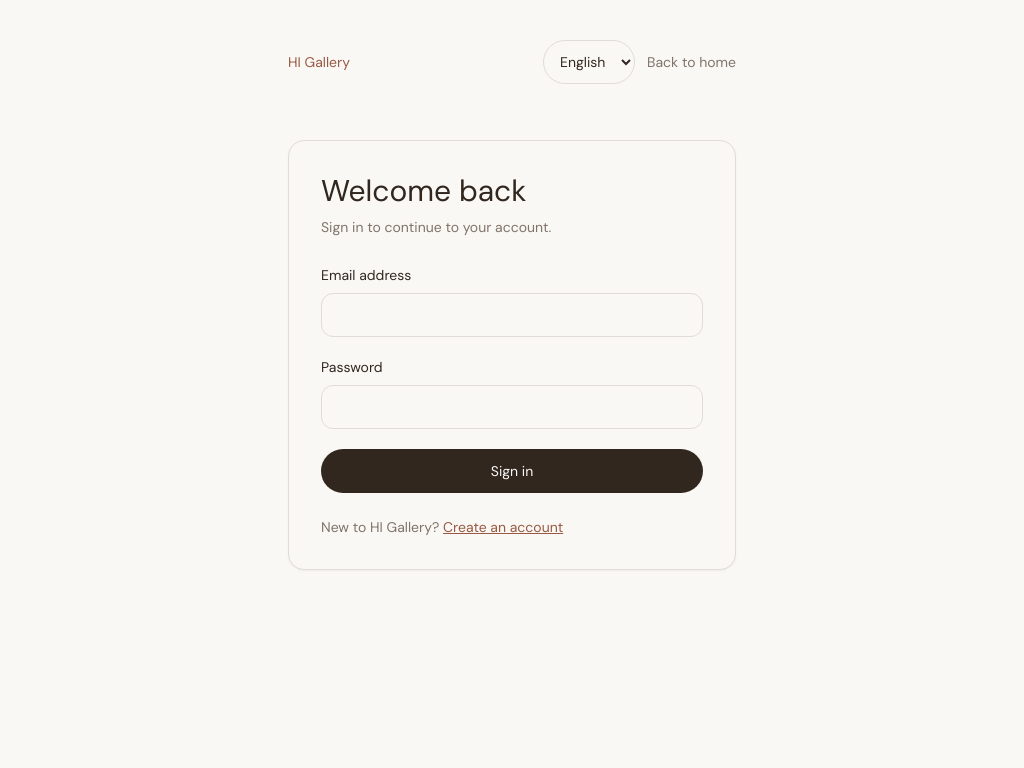
it: frontend authentication › validates and submits login credentials, stores only in-memory user state, and supports localized RTL
In the field labelled "Email address": (512, 315) x1=321 y1=293 x2=703 y2=337, type "maker@example.com"
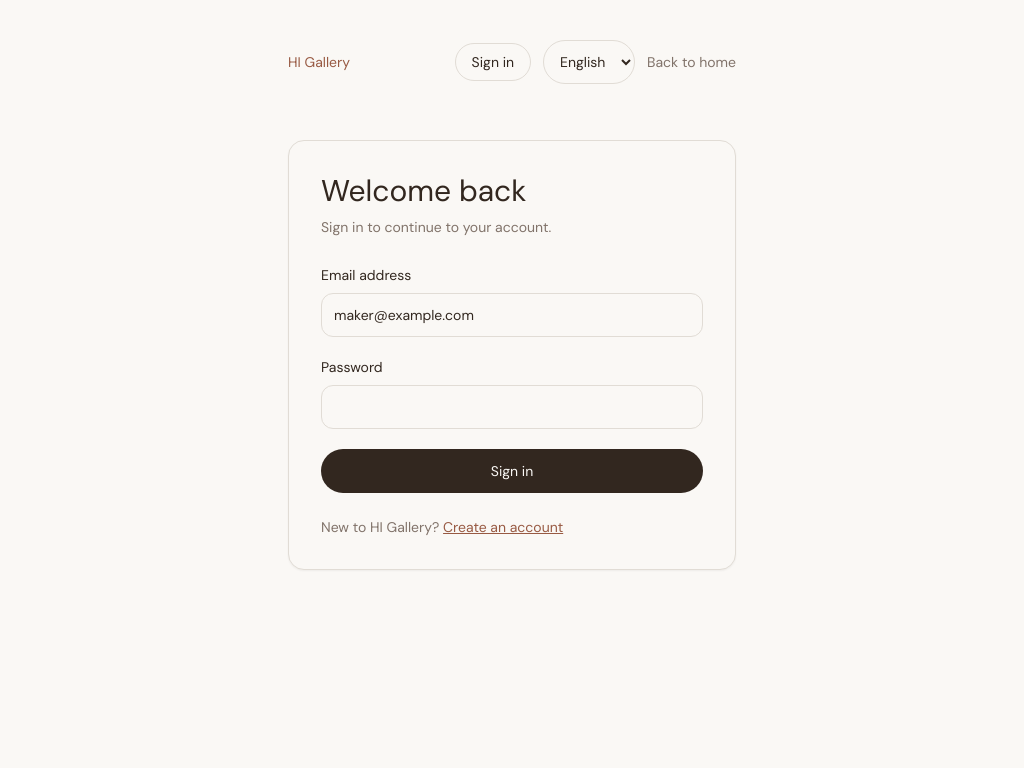
In the password field labelled "Password": (512, 407) x1=321 y1=385 x2=703 y2=429, type "correct-horse-12"
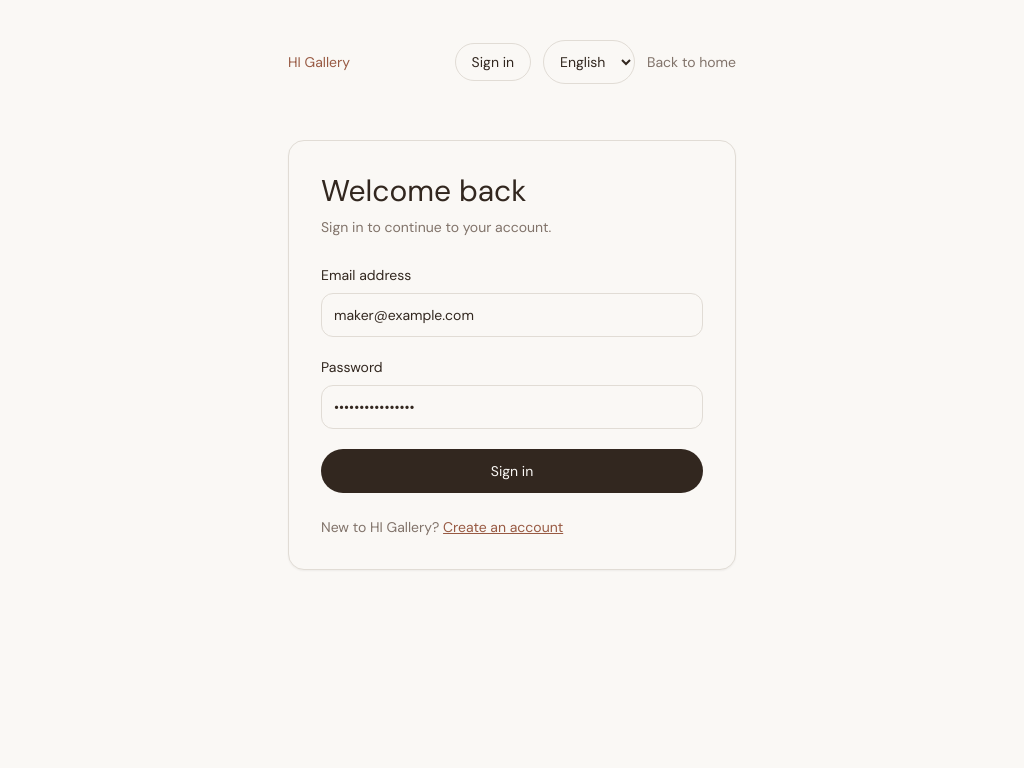
Select "فارسی" in the dropdown named "Select language": (589, 62) x1=543 y1=40 x2=635 y2=84
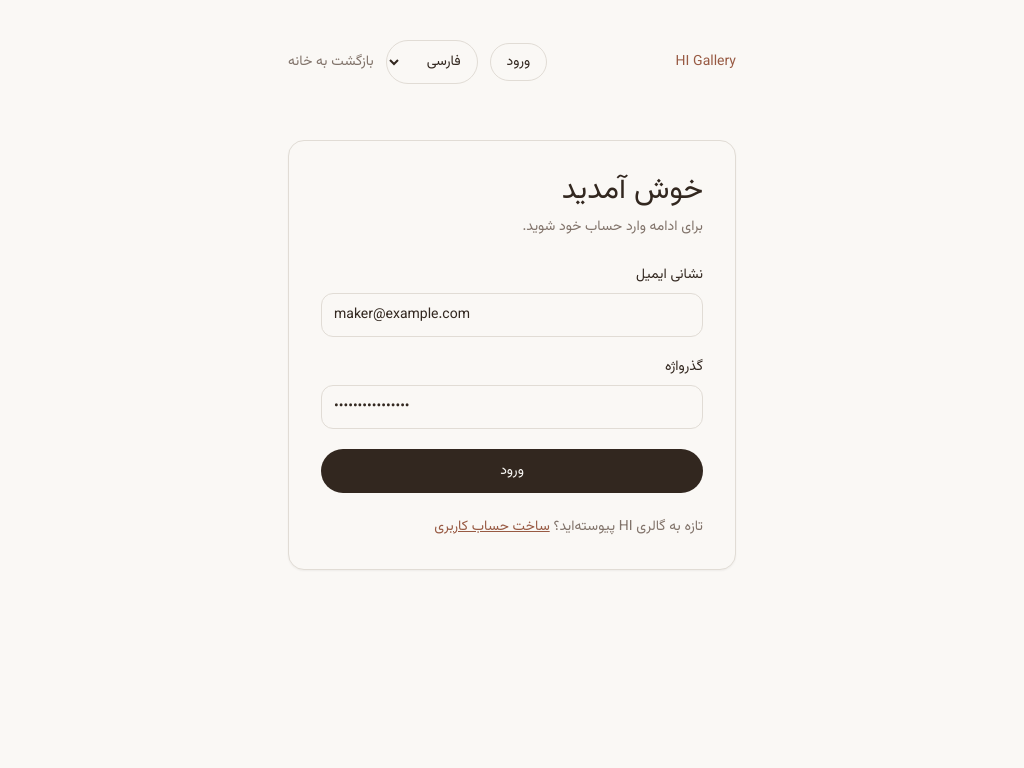
Click the button "ورود": (512, 471) x1=321 y1=449 x2=703 y2=493
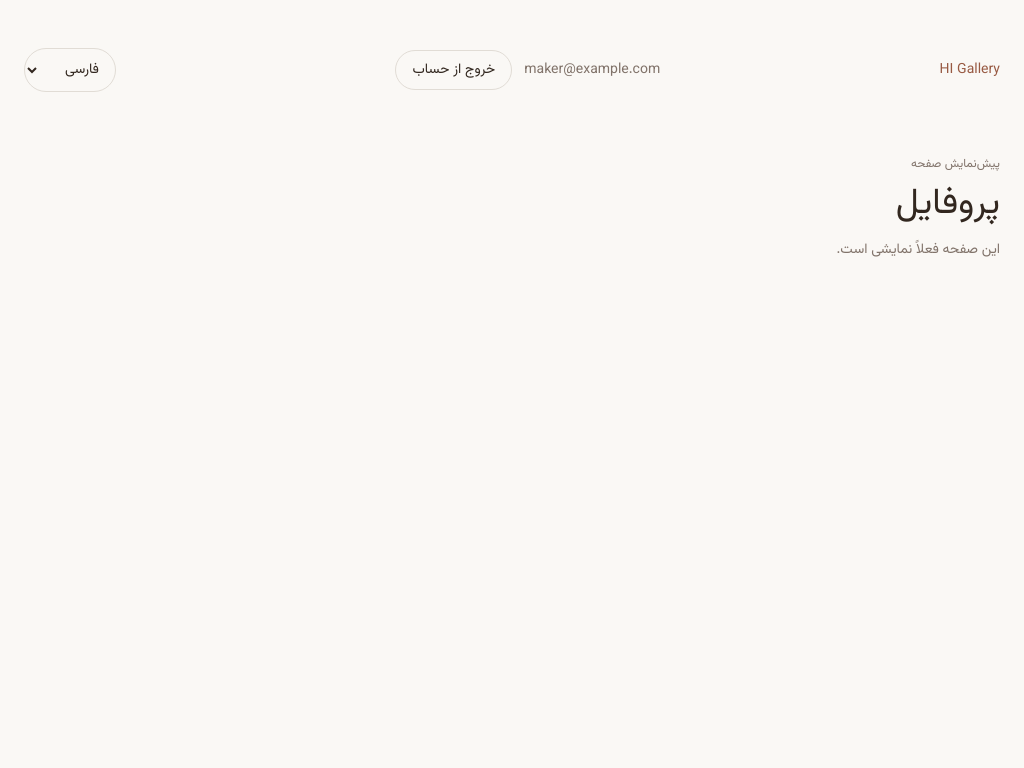
Result: the heading "پروفایل" is shown at x1=896 y1=176 x2=1000 y2=232
